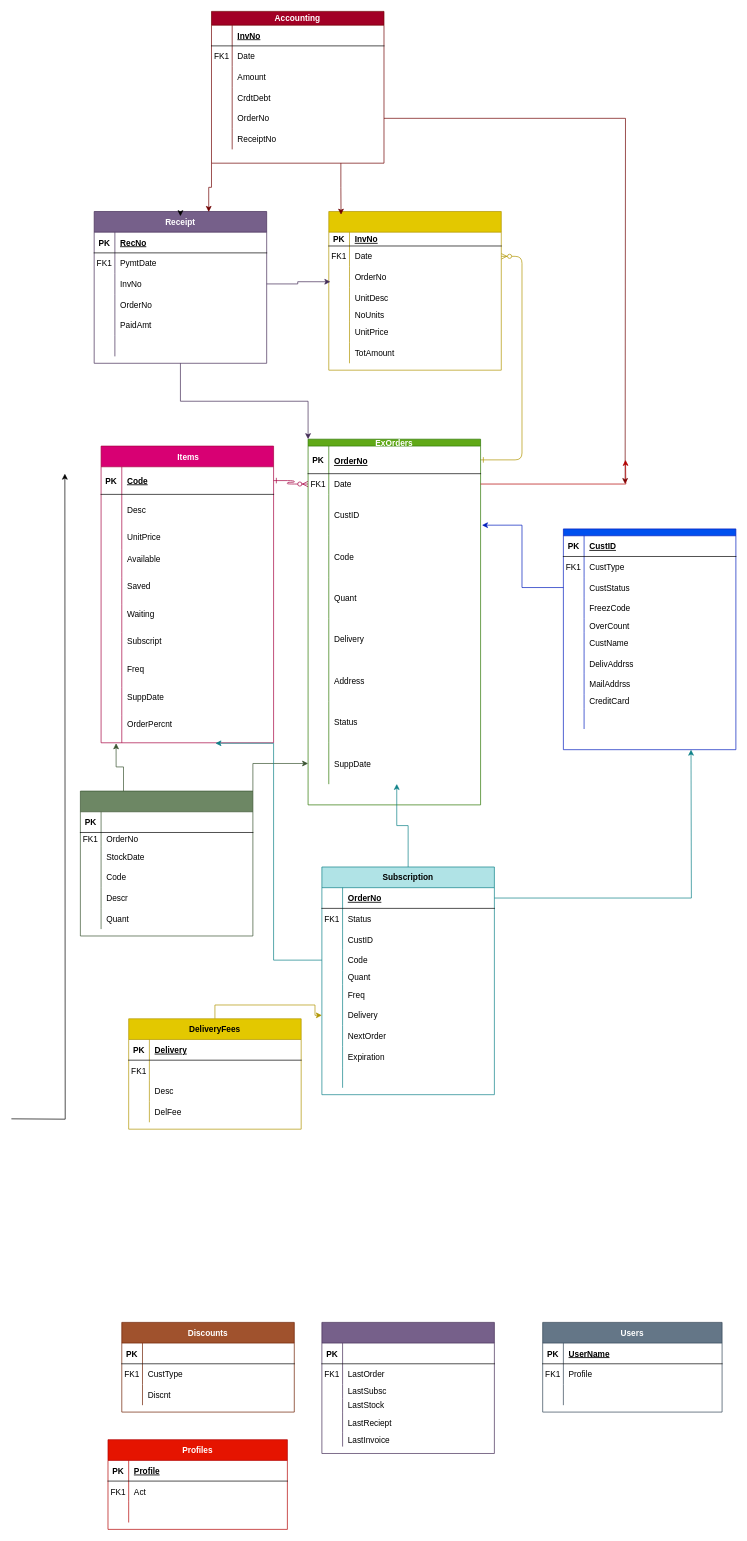
Image size: 747x1541. Some labels were removed from this diagram. Here are the shapes that lost their labels. From the top down, the box of each, then its label:
(328, 211, 501, 370): Invoices
(563, 528, 736, 750): Customers
(80, 790, 253, 936): StockOrder
(321, 1322, 494, 1453): Numbers
